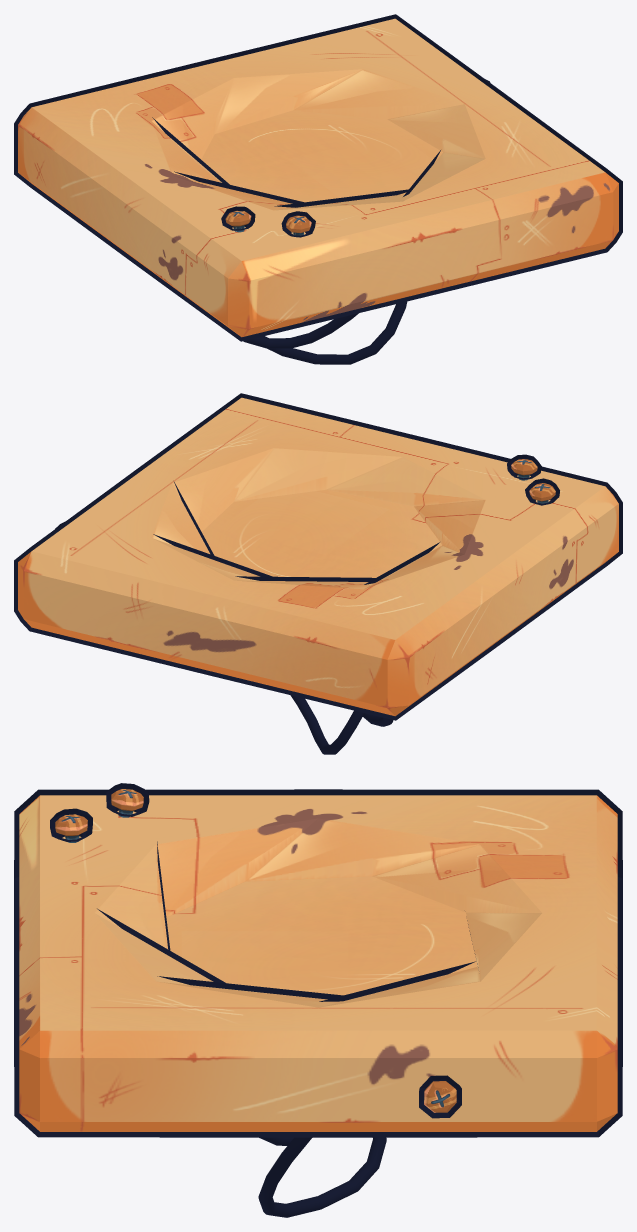
File: plateformemeule.glb
3 views of the same model, one above another, from view 1: azimuth 30°, elevation 25°; view 2: azimuth 150°, elevation 25°; view 3: azimuth 270°, elevation 25° (orthographic). The views are drawn at different scales.
Parts seen in each view (by area): view 1: plateforme, plateforme border, fils, vis plateforme meule, vis plateforme meule border; view 2: plateforme, plateforme border, fils, vis plateforme meule, vis plateforme meule border; view 3: plateforme, plateforme border, fils, vis plateforme meule, vis plateforme meule border.
Boxes of the visible parts, x1,y1,x2,y2 form: plateforme: [18, 18, 618, 337]; plateforme border: [14, 14, 622, 341]; fils: [243, 301, 407, 364]; vis plateforme meule: [225, 210, 311, 237]; vis plateforme meule border: [221, 79, 490, 237]; plateforme: [18, 397, 618, 716]; plateforme border: [14, 393, 622, 720]; fils: [290, 695, 393, 754]; vis plateforme meule: [511, 459, 555, 503]; vis plateforme meule border: [55, 454, 559, 528]; plateforme: [19, 795, 617, 1131]; plateforme border: [14, 789, 622, 1137]; fils: [258, 1137, 386, 1217]; vis plateforme meule: [55, 789, 456, 1112]; vis plateforme meule border: [50, 783, 461, 1118].
Size of the model in its own units: 0.8148 by 0.4582 by 0.7782.
3 materials, 2 textured.
